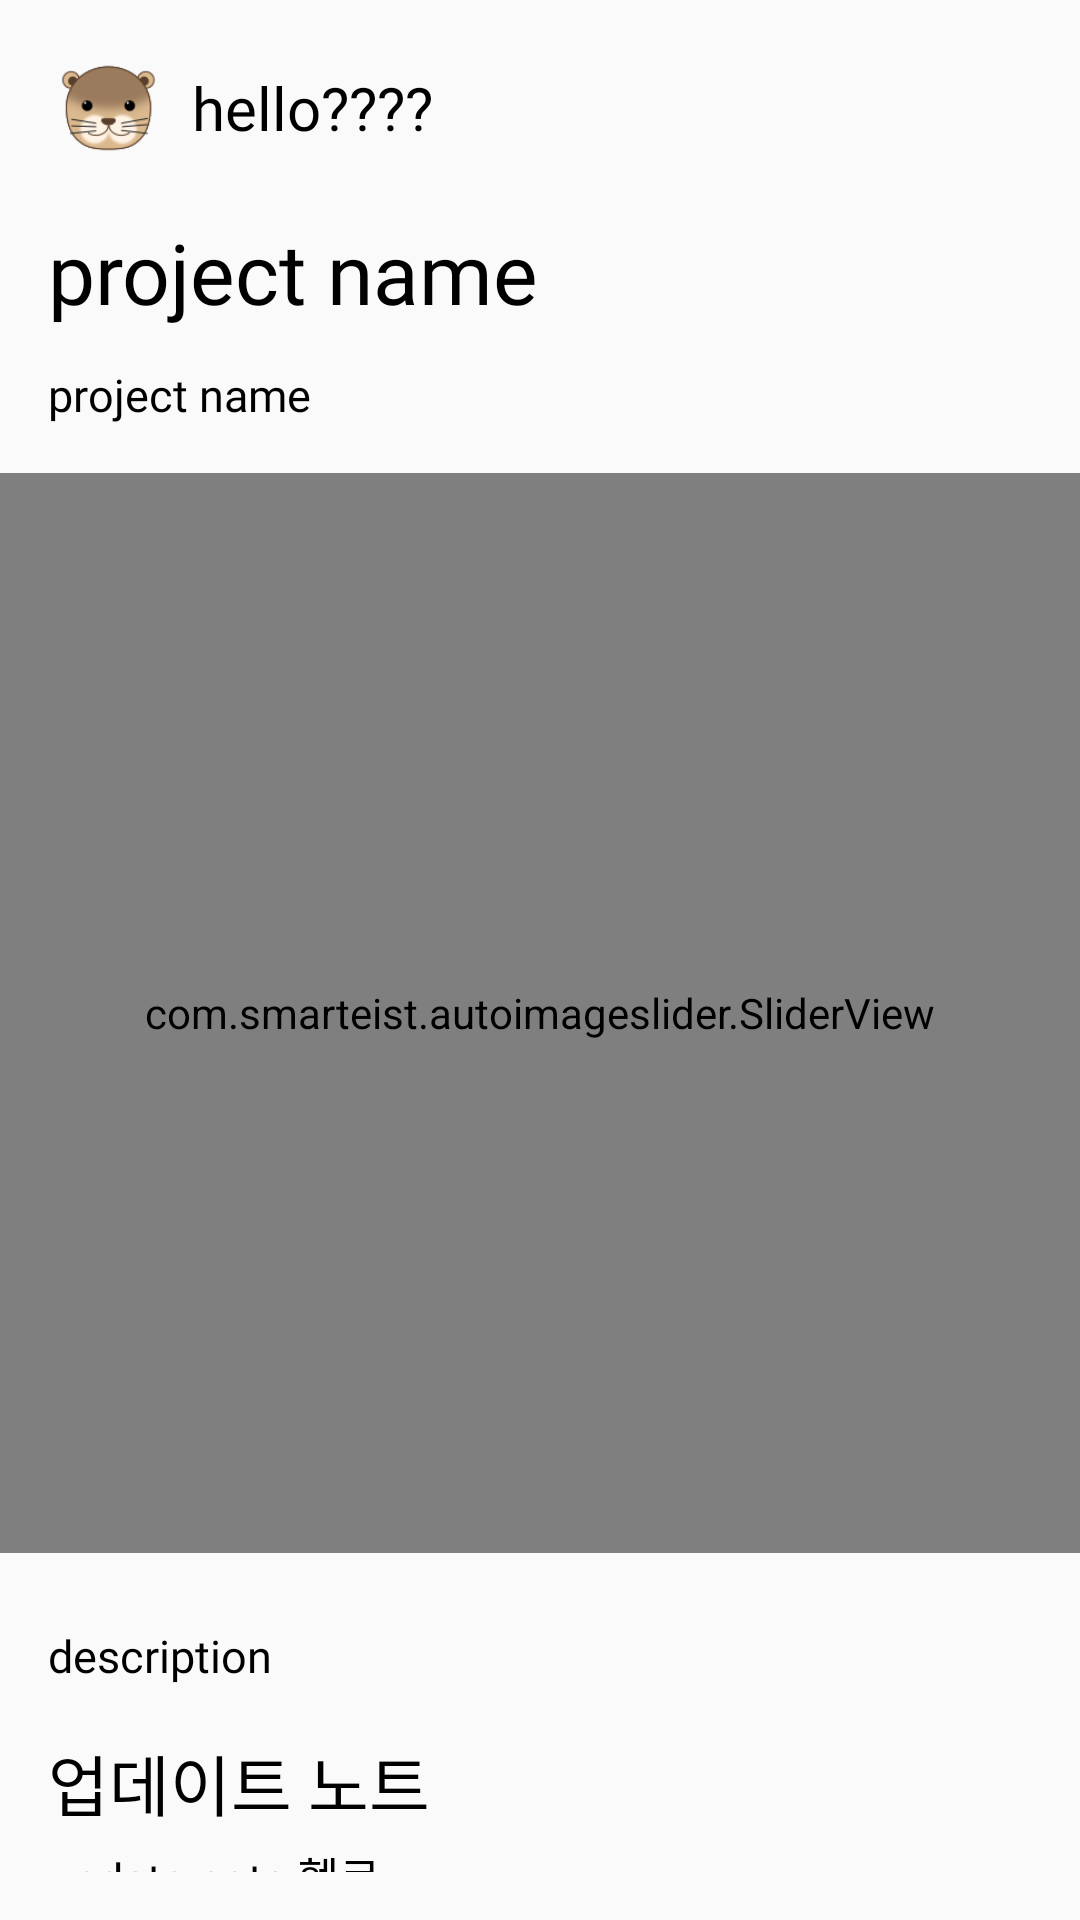

Point at icon controls on the screen. Image size 1080w x 1920h, points as [x,y].
otter: [108,108]
